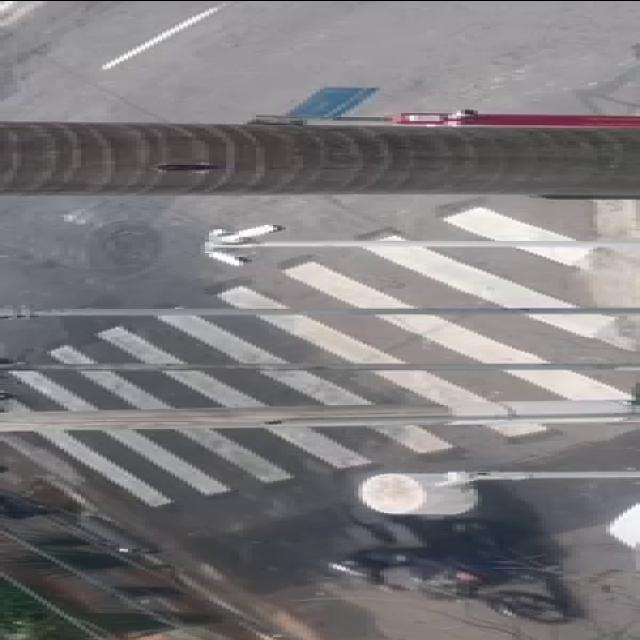motorbike: (328, 498, 608, 628)
